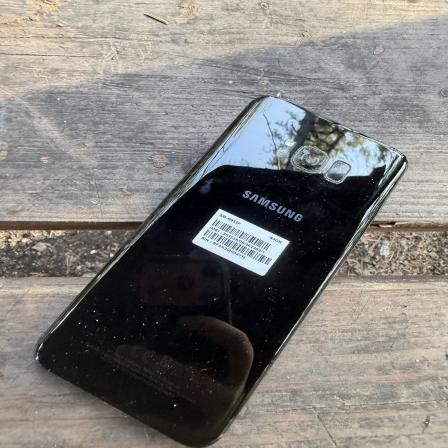phone: (33, 94, 408, 448)
